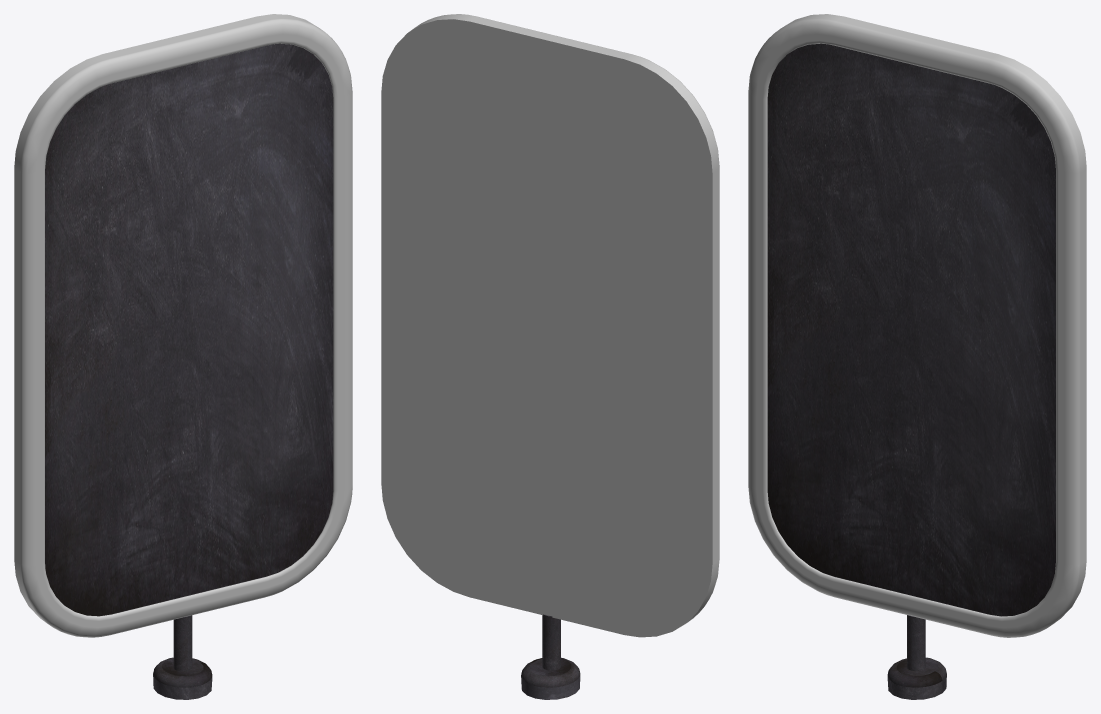
File: bulletinrhinomayafixed.dae
The picture shows the model from 3 angles, left to right: view 1: azimuth 30°, elevation 25°; view 2: azimuth 150°, elevation 25°; view 3: azimuth 330°, elevation 25°; orthographic projection.
Visible parts, largest first — view 1: Bulletinboard1FBXASC058object_2, Bulletinboard1FBXASC058object_3, Bulletinboard1FBXASC058object_1; view 2: Bulletinboard1FBXASC058object_3, Bulletinboard1FBXASC058object_1; view 3: Bulletinboard1FBXASC058object_2, Bulletinboard1FBXASC058object_3, Bulletinboard1FBXASC058object_1.
Boxes of the visible parts, bbox=[...] form: Bulletinboard1FBXASC058object_2: bbox=[45, 43, 333, 616]; Bulletinboard1FBXASC058object_3: bbox=[14, 14, 352, 637]; Bulletinboard1FBXASC058object_1: bbox=[153, 615, 212, 699]; Bulletinboard1FBXASC058object_3: bbox=[381, 14, 719, 637]; Bulletinboard1FBXASC058object_1: bbox=[521, 614, 580, 699]; Bulletinboard1FBXASC058object_2: bbox=[767, 43, 1055, 616]; Bulletinboard1FBXASC058object_3: bbox=[748, 14, 1086, 637]; Bulletinboard1FBXASC058object_1: bbox=[887, 615, 946, 699].
Size of the model in its own units: 0.00465 by 0.00872 by 0.000757.
